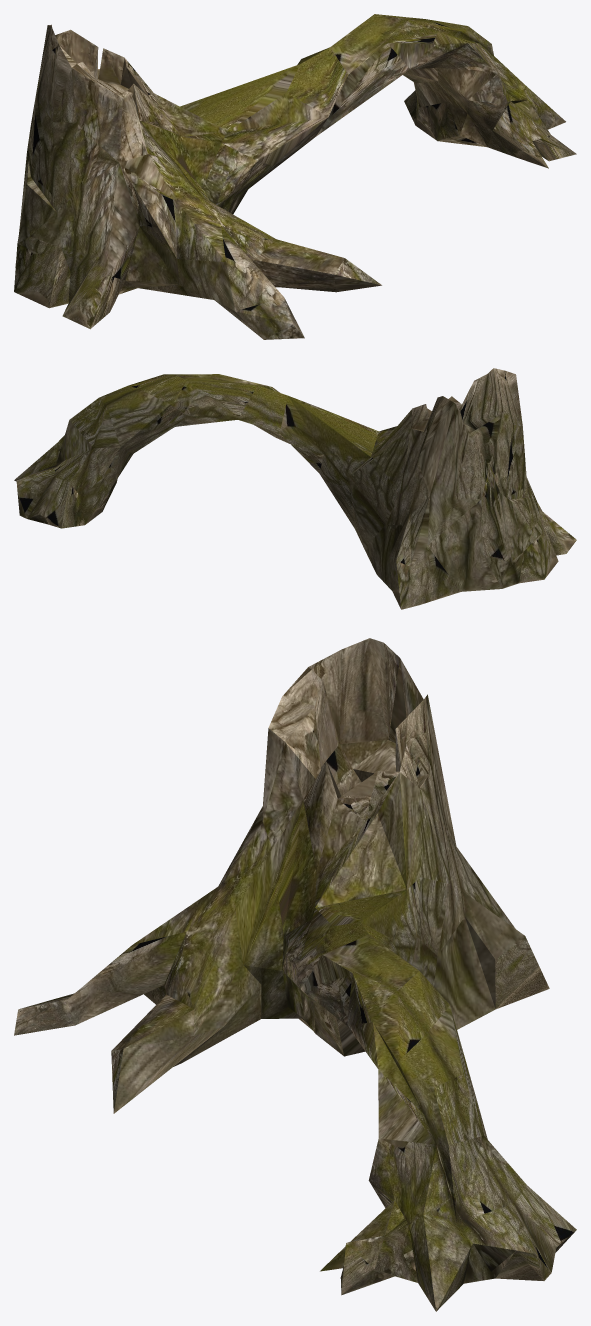
The model's file is fo_rootarch_stump_lod1.glb.
The picture shows the model from 3 angles, top to bottom: view 1: azimuth 30°, elevation 25°; view 2: azimuth 150°, elevation 25°; view 3: azimuth 270°, elevation 25°; orthographic projection. The views are drawn at different scales.
Visible parts, largest first — view 1: output_unwrapped; view 2: output_unwrapped; view 3: output_unwrapped.
Part boxes in pixels (x1,y1,x2,y2): output_unwrapped: (14,14,576,339); output_unwrapped: (14,368,576,609); output_unwrapped: (14,638,576,1311).
Size of the model in its own units: 1.86 by 0.7426 by 1.16.
1 material, 1 textured.
